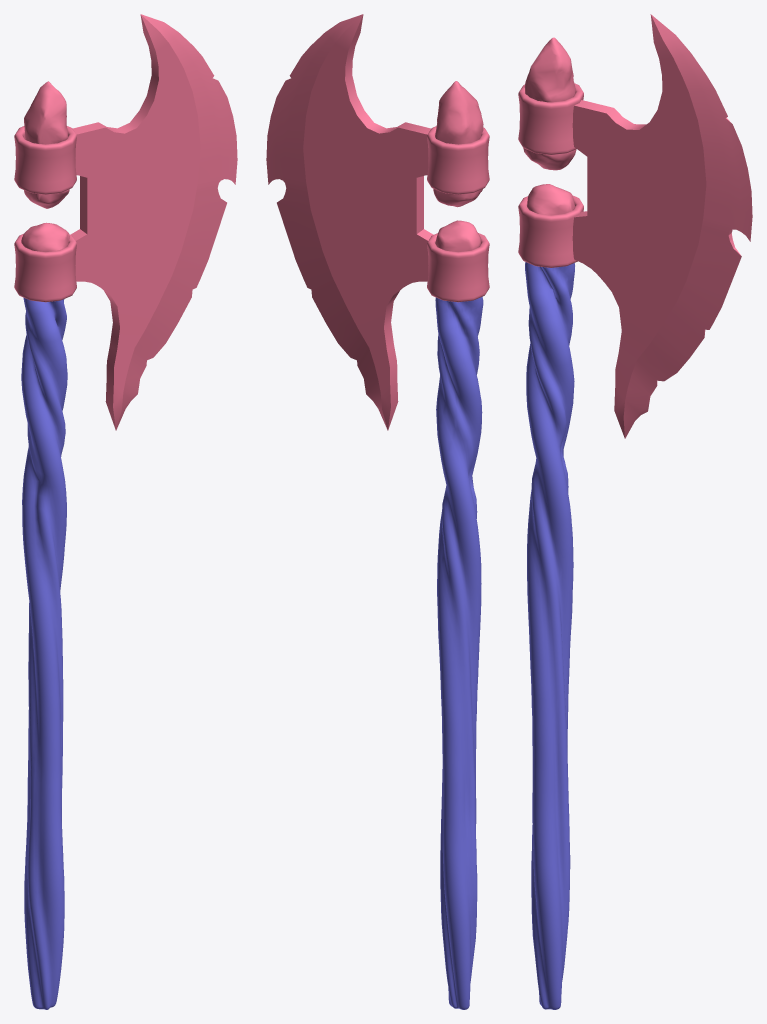
The picture shows the model from 3 angles, left to right: view 1: azimuth 30°, elevation 25°; view 2: azimuth 150°, elevation 25°; view 3: azimuth 330°, elevation 25°; orthographic projection. The views are drawn at different scales.
Visible parts, largest first — view 1: uzunbalta001, coklubalta; view 2: uzunbalta001, coklubalta; view 3: uzunbalta001, coklubalta.
Part boxes in pixels (box(x1,y1,x2,y2)): uzunbalta001: box(14, 14, 237, 430); coklubalta: box(21, 297, 67, 1009); uzunbalta001: box(266, 14, 489, 430); coklubalta: box(435, 296, 483, 1009); uzunbalta001: box(518, 14, 752, 438); coklubalta: box(525, 262, 574, 1009).
Bounding box in the file's own units: 32.83 × 139 × 8.12.
